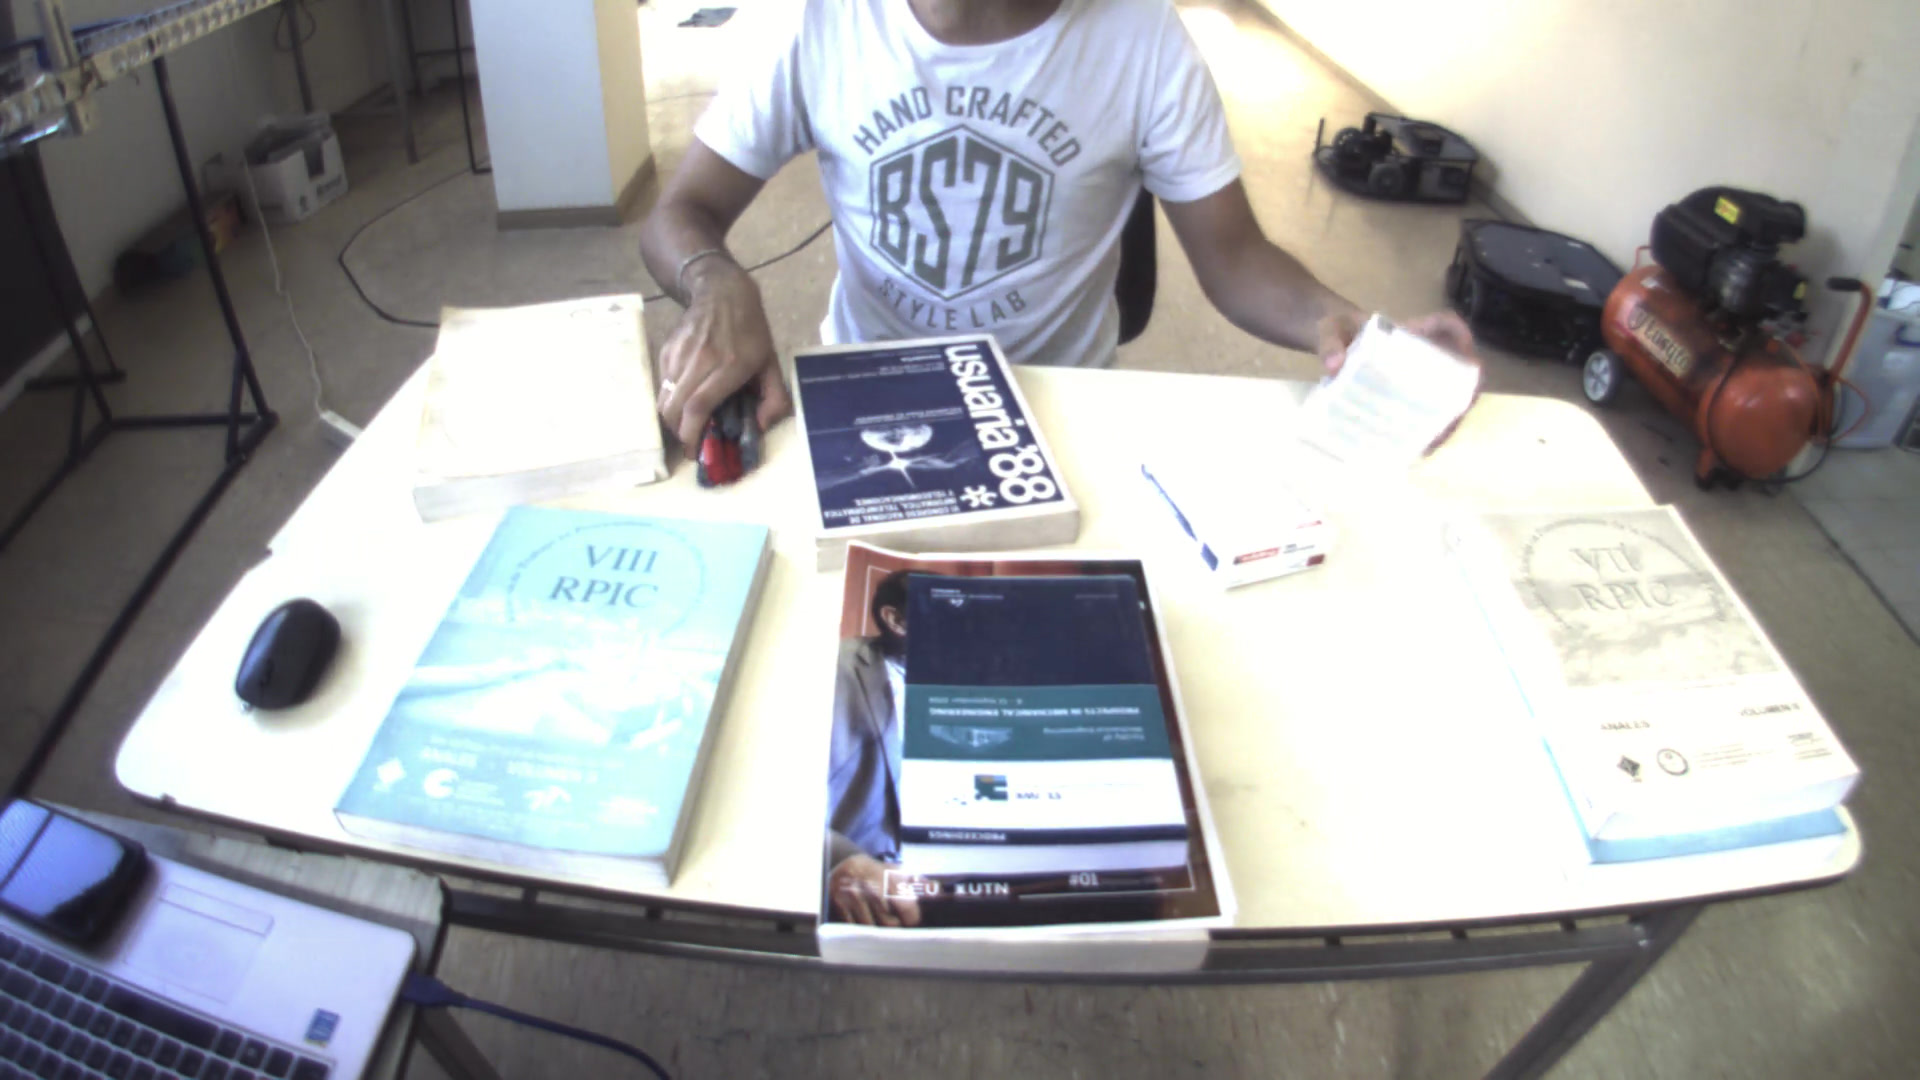hand: (651, 255, 787, 459), (1294, 297, 1478, 382)
